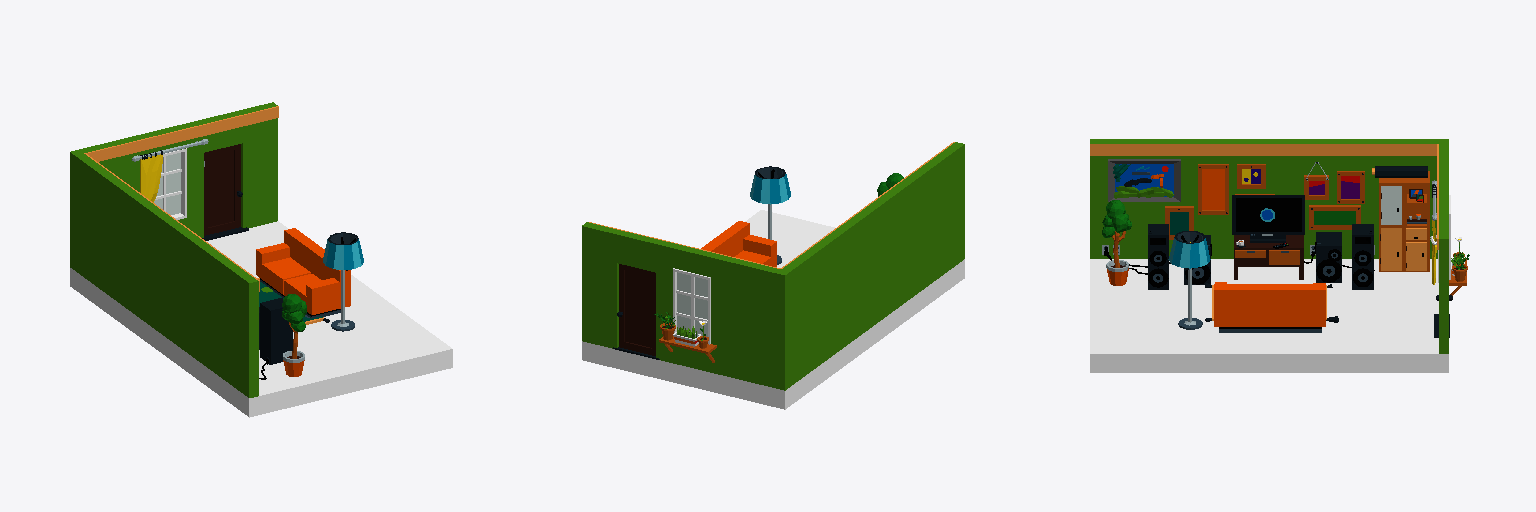
The picture shows the model from 3 angles: view 1: azimuth 30°, elevation 25°; view 2: azimuth 150°, elevation 25°; view 3: azimuth 270°, elevation 25°; orthographic projection.
Visible parts, largest first — view 1: group[number redacted], group[number redacted], group[number redacted], group[number redacted], group[number redacted], group[number redacted], group[number redacted], group[number redacted], group[number redacted], group[number redacted]; view 2: group[number redacted], group[number redacted], group[number redacted], group[number redacted], group[number redacted], group[number redacted], group[number redacted]; view 3: group[number redacted], group[number redacted], group[number redacted], group[number redacted], group[number redacted], group[number redacted], group[number redacted], group[number redacted], group[number redacted], group[number redacted], group[number redacted], group[number redacted] (+11 smaller).
Part boxes in pixels (x1,y1,x2,y2): group[number redacted]: (70, 150, 259, 397); group[number redacted]: (70, 221, 452, 417); group[number redacted]: (79, 102, 278, 237); group[number redacted]: (256, 228, 350, 318); group[number redacted]: (204, 144, 242, 235); group[number redacted]: (154, 148, 186, 219); group[number redacted]: (260, 298, 292, 364); group[number redacted]: (323, 232, 363, 331); group[number redacted]: (282, 294, 306, 376); group[number redacted]: (132, 139, 208, 202); group[number redacted]: (776, 142, 964, 390); group[number redacted]: (582, 222, 780, 387); group[number redacted]: (582, 210, 964, 409); group[number redacted]: (617, 264, 655, 355); group[number redacted]: (673, 268, 710, 344); group[number redacted]: (701, 221, 776, 266); group[number redacted]: (750, 166, 790, 264); group[number redacted]: (1090, 259, 1448, 372); group[number redacted]: (1090, 139, 1448, 258); group[number redacted]: (1214, 282, 1325, 332); group[number redacted]: (1232, 195, 1304, 242); group[number redacted]: (1108, 159, 1180, 201); group[number redacted]: (1437, 144, 1448, 353); group[number redacted]: (1234, 235, 1303, 279); group[number redacted]: (1379, 171, 1429, 271); group[number redacted]: (1168, 231, 1210, 329); group[number redacted]: (1198, 164, 1228, 214); group[number redacted]: (1352, 224, 1373, 289); group[number redacted]: (1102, 200, 1131, 285).
Bounding box in the file's own units: 2.68 × 1.69 × 4.34.